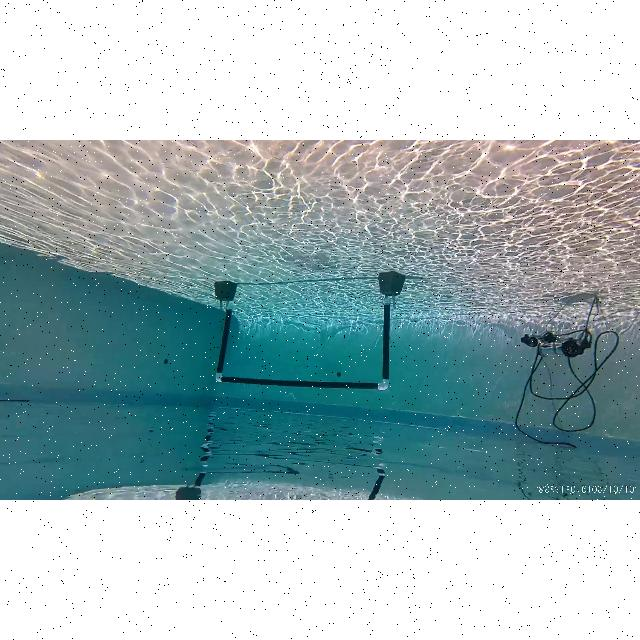prequal gate: (216, 305, 390, 389)
prequal gate leg l: (372, 270, 406, 392)
prequal gate leg r: (207, 282, 239, 386)
